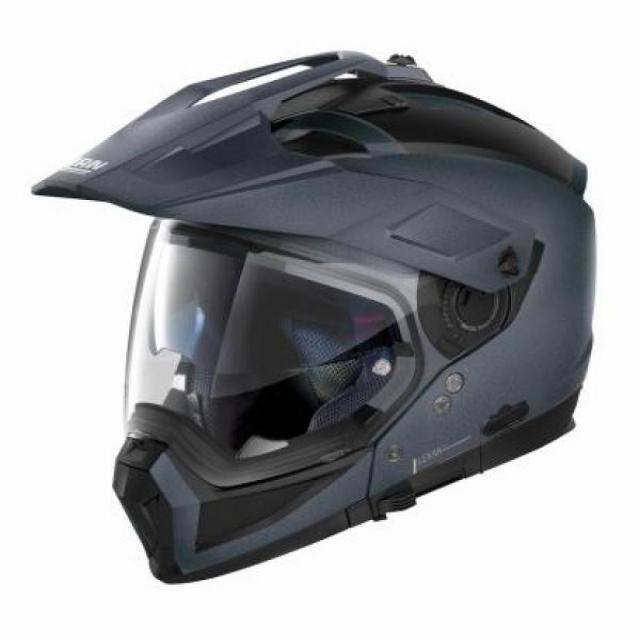Helmet: (35, 29, 571, 586)
